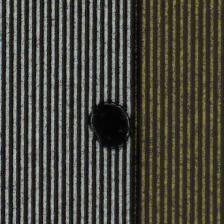PARTICLE: (87, 99, 136, 152)
